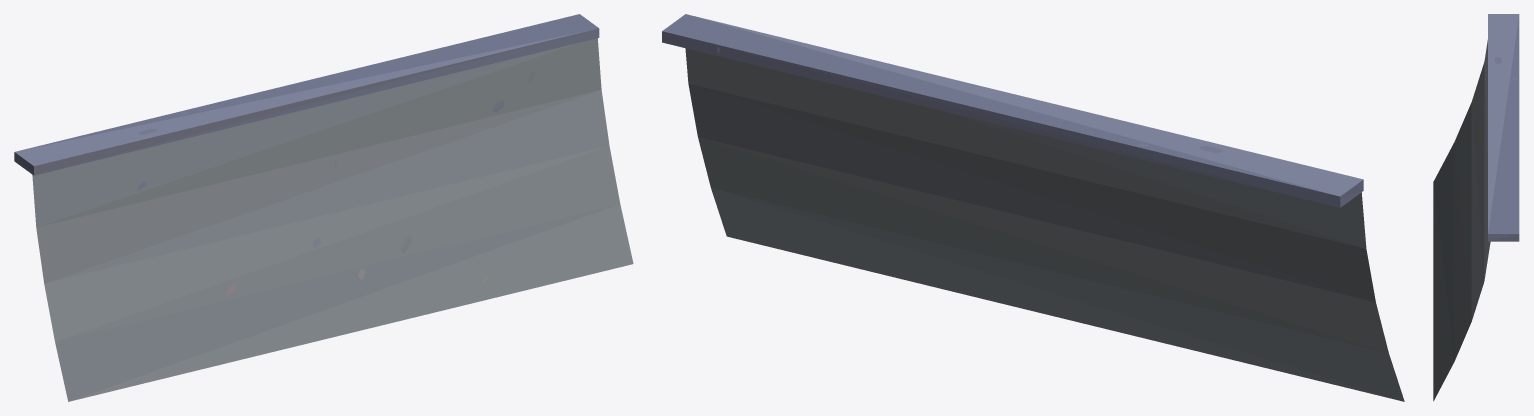
Rendered from HK_Ishigaki_Low.lod.glb.
The picture shows the model from 3 angles, left to right: view 1: azimuth 30°, elevation 25°; view 2: azimuth 150°, elevation 25°; view 3: azimuth 270°, elevation 25°; orthographic projection. The views are drawn at different scales.
Parts seen in each view (by area): view 1: HK_Ishigaki_Low; view 2: HK_Ishigaki_Low; view 3: HK_Ishigaki_Low.
Part boxes in pixels (x1=…): HK_Ishigaki_Low: x1=14, y1=14, x2=633, y2=401; HK_Ishigaki_Low: x1=662, y1=14, x2=1404, y2=401; HK_Ishigaki_Low: x1=1433, y1=14, x2=1519, y2=401.
Size of the model in its own units: 10 by 3.57 by 1.66.
